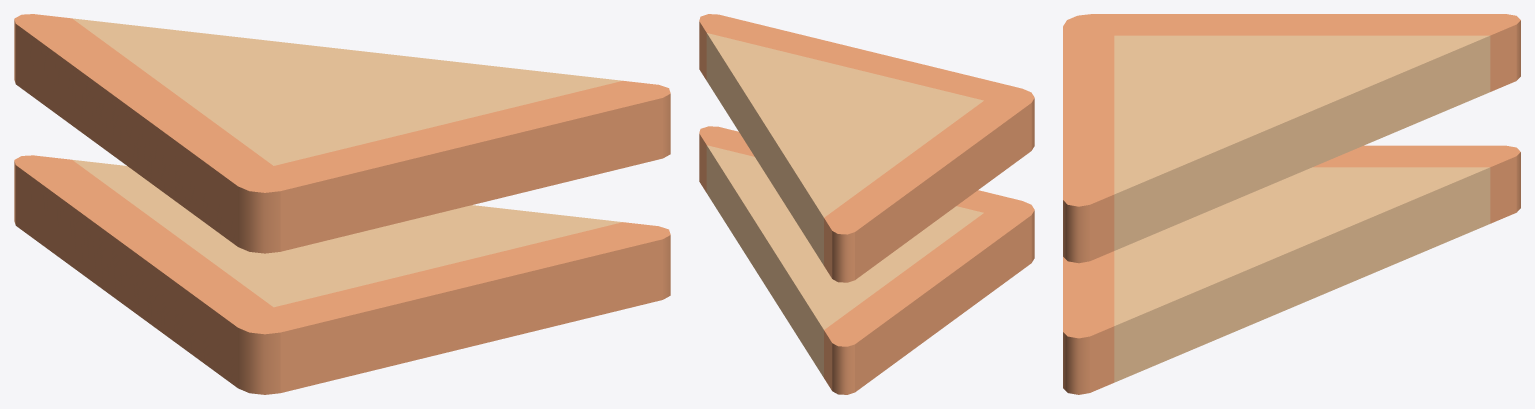
Rendered from sandwich.GLB.
3 views of the same model, side by side, from view 1: azimuth 30°, elevation 25°; view 2: azimuth 150°, elevation 25°; view 3: azimuth 270°, elevation 25° (orthographic). The views are drawn at different scales.
Visible parts, largest first — view 1: sandwich; view 2: sandwich; view 3: sandwich.
Part boxes in pixels (x1=…): sandwich: x1=14, y1=14, x2=670, y2=394; sandwich: x1=699, y1=14, x2=1034, y2=394; sandwich: x1=1063, y1=14, x2=1520, y2=394.
Bounding box in the file's own units: 0.3509 × 0.1598 × 0.3522.
